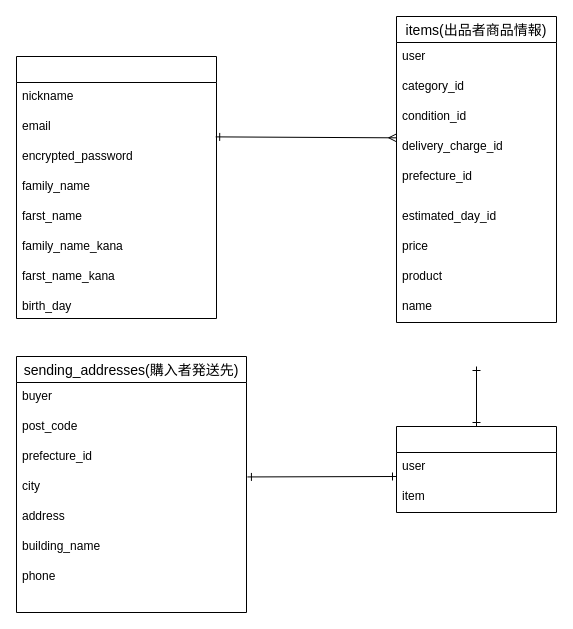
This 573x629 diagram has some shape labels left out. Each missing label, with the box of its shape:
buyers(購入者): (396, 426, 556, 512)
users: (16, 56, 216, 318)
